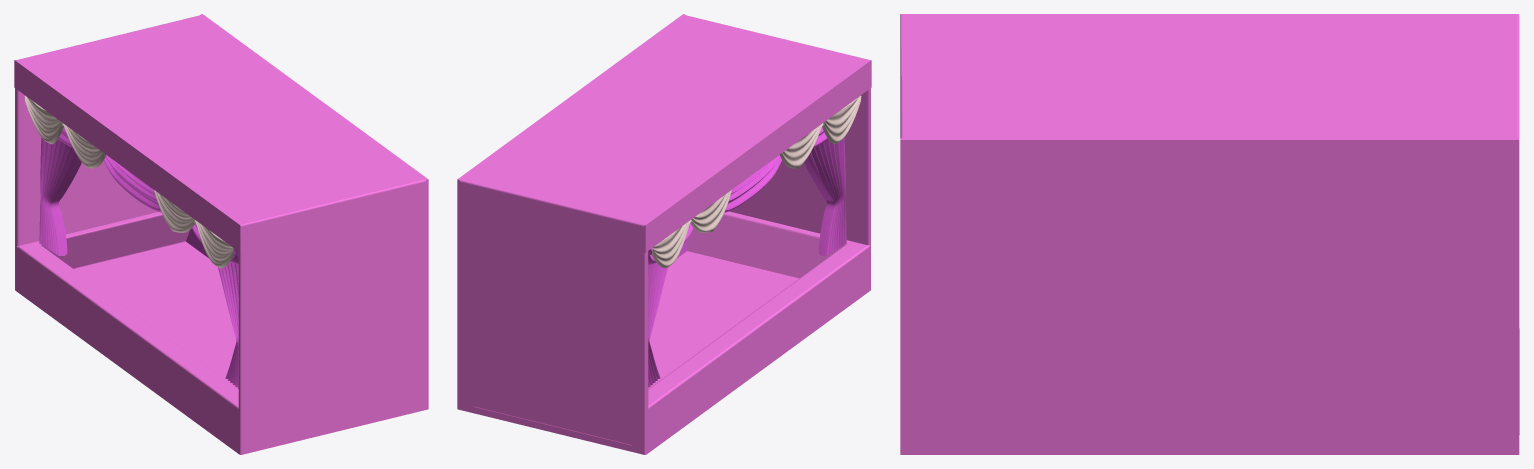
File: Tent4.fbx
The picture shows the model from 3 angles, left to right: view 1: azimuth 30°, elevation 25°; view 2: azimuth 150°, elevation 25°; view 3: azimuth 270°, elevation 25°; orthographic projection. The views are drawn at different scales.
Visible parts, largest first — view 1: Cube, Plane, Plane.003, Plane.002; view 2: Cube, Plane, Plane.003, Plane.002; view 3: Cube.
Boxes of the visible parts, box(x1,y1,x2,y2) form: Cube: box(14, 14, 428, 454); Plane: box(39, 137, 238, 388); Plane.003: box(24, 95, 234, 268); Plane.002: box(58, 127, 238, 264); Cube: box(457, 14, 871, 454); Plane: box(648, 137, 846, 387); Plane.003: box(651, 95, 861, 268); Plane.002: box(648, 127, 827, 264); Cube: box(900, 14, 1519, 454).
Size of the model in its own units: 838 by 978 by 1742.
